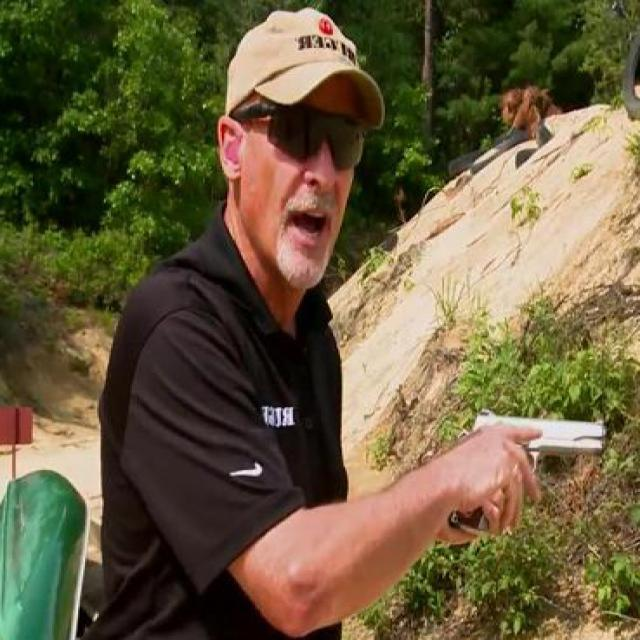weapon: (444, 413, 607, 538)
